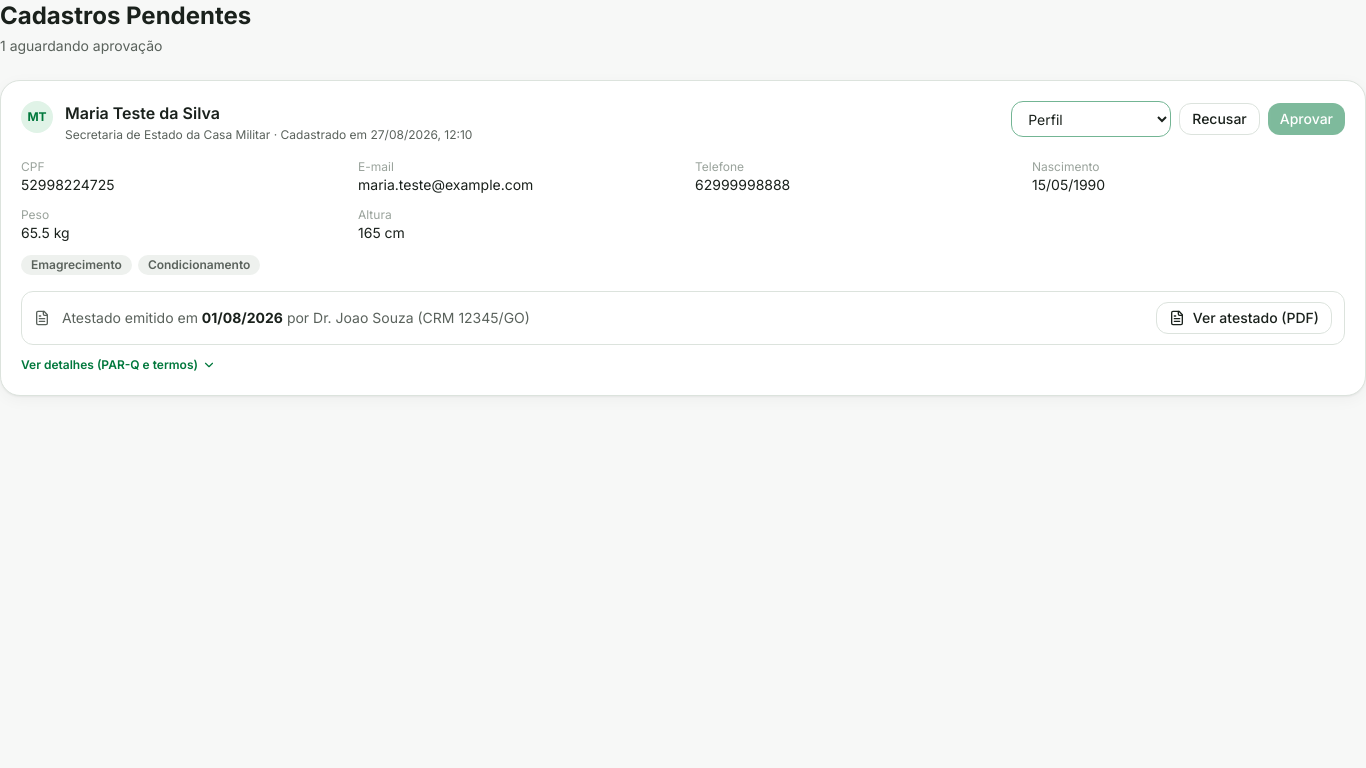
Test: PendingRegistrations - aprovar como instrutor › pede confirmação antes de aprovar como instrutor
The image size is (1366, 768).
expect the text "Maria Teste da Silva" is shown: met, box [65,101,220,125]
Select "Instrutor" in the dropdown named "Perfil" at (1091,119), box [1011,101,1171,137]
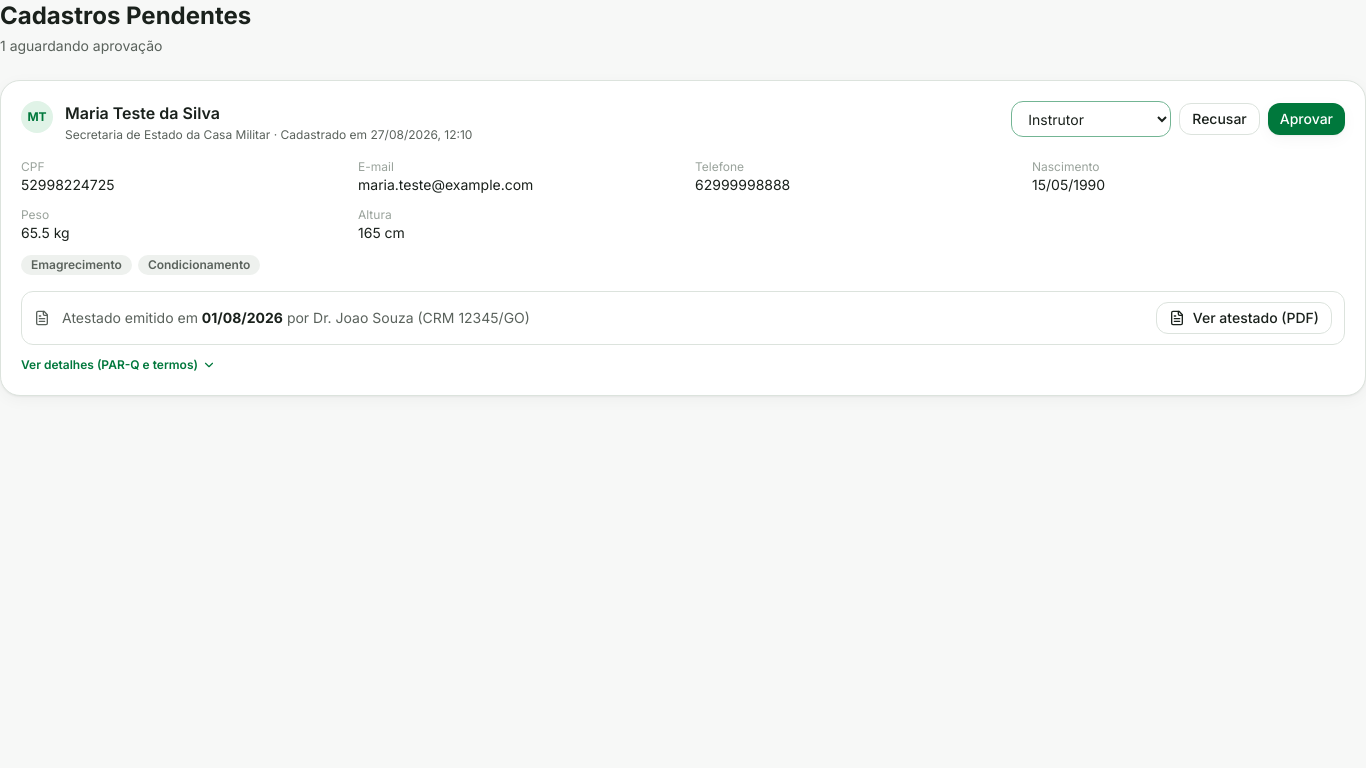
Click the button "Aprovar".
click(1306, 119)  # box [1268,103,1345,135]
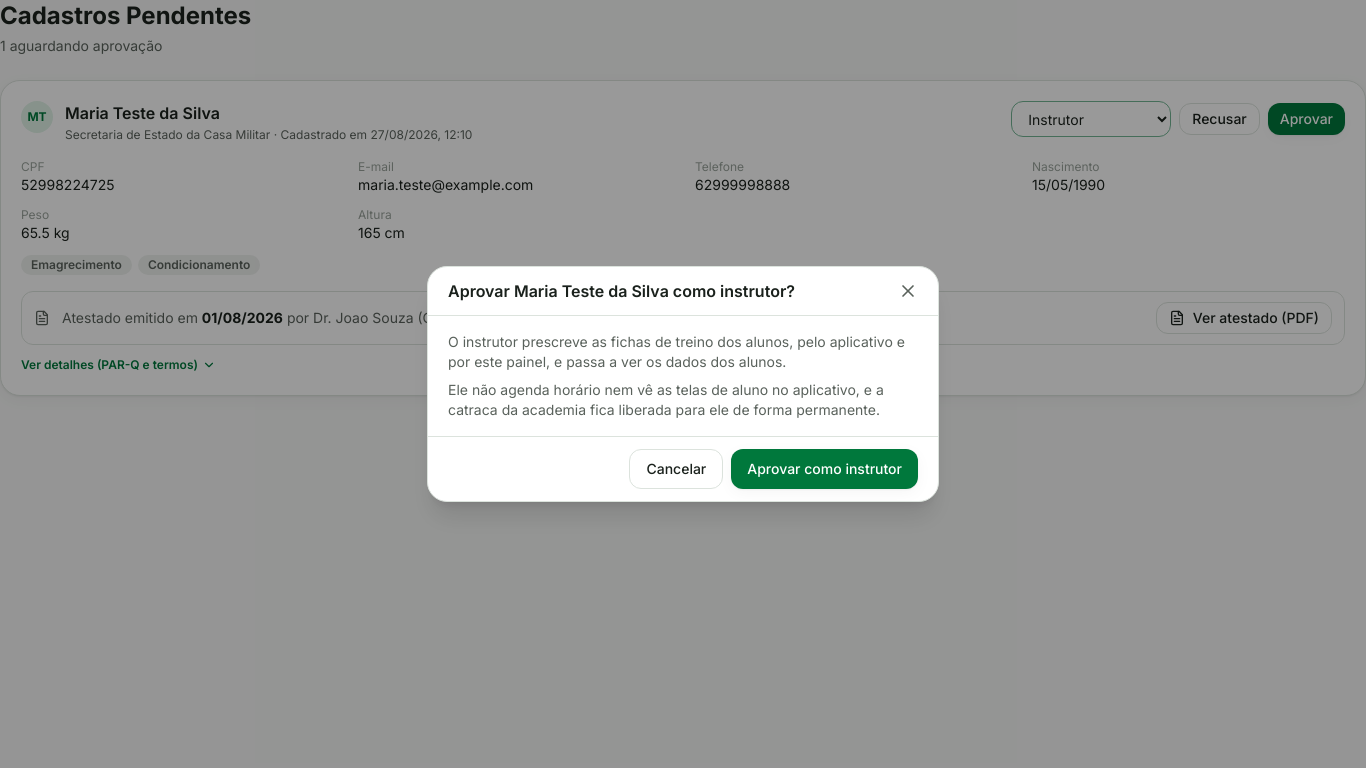
expect the heading "Aprovar Maria Teste da Silva como instrutor?" is shown: met, box [448,279,795,303]
Click the button "Cancelar".
click(676, 469)  # box [629,449,723,489]
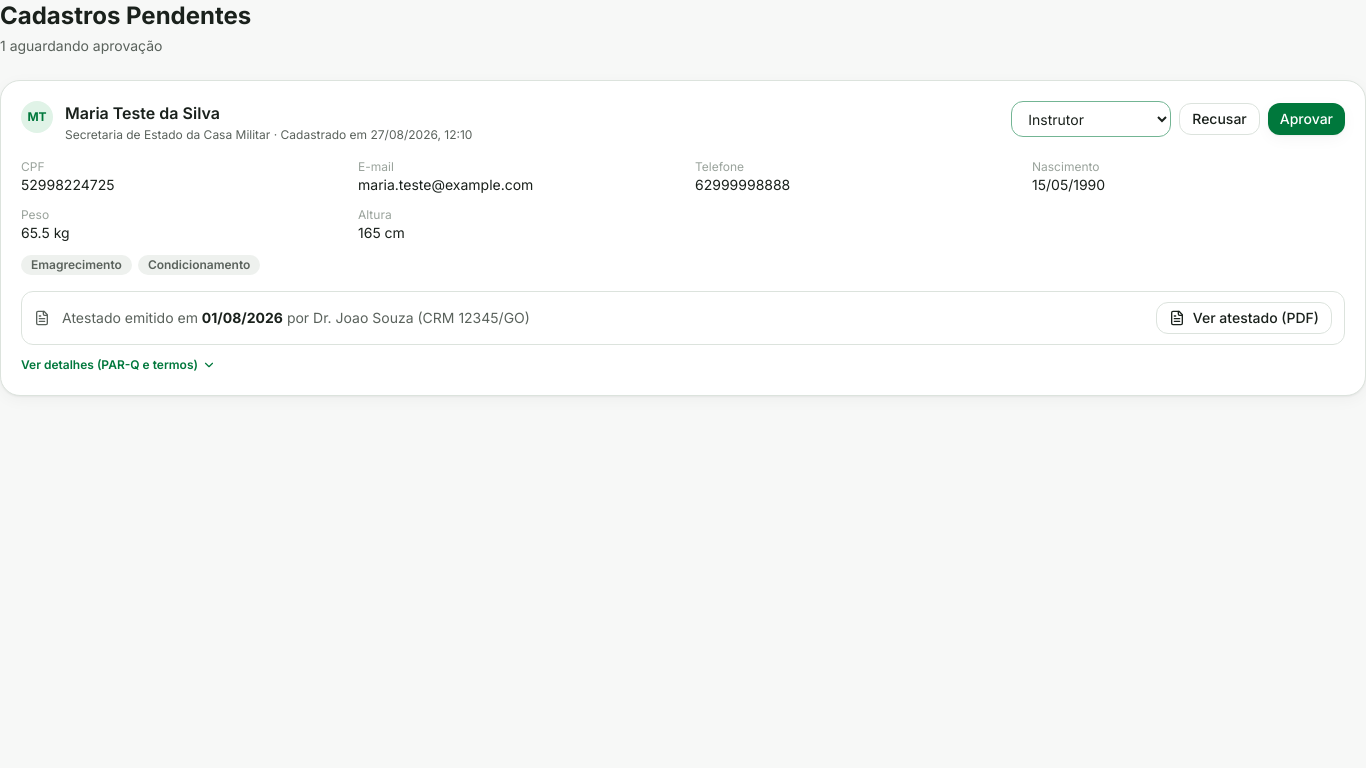
expect the heading "como instrutor" is gone: met
